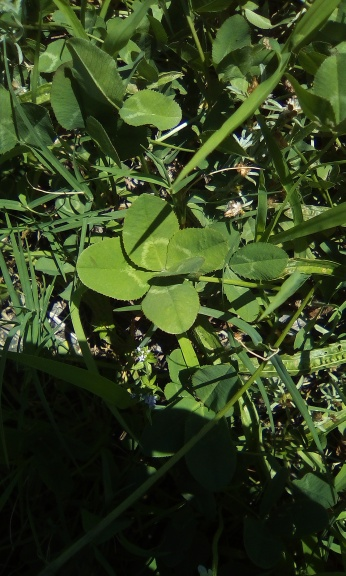4leaf: (74, 192, 229, 335)
